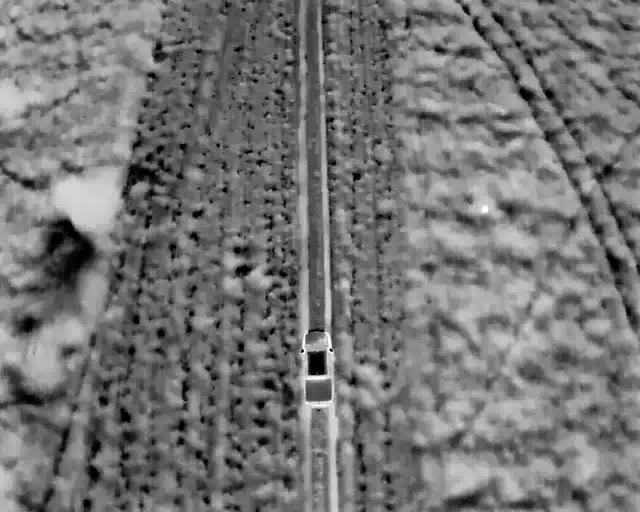car: (300, 331, 334, 407)
